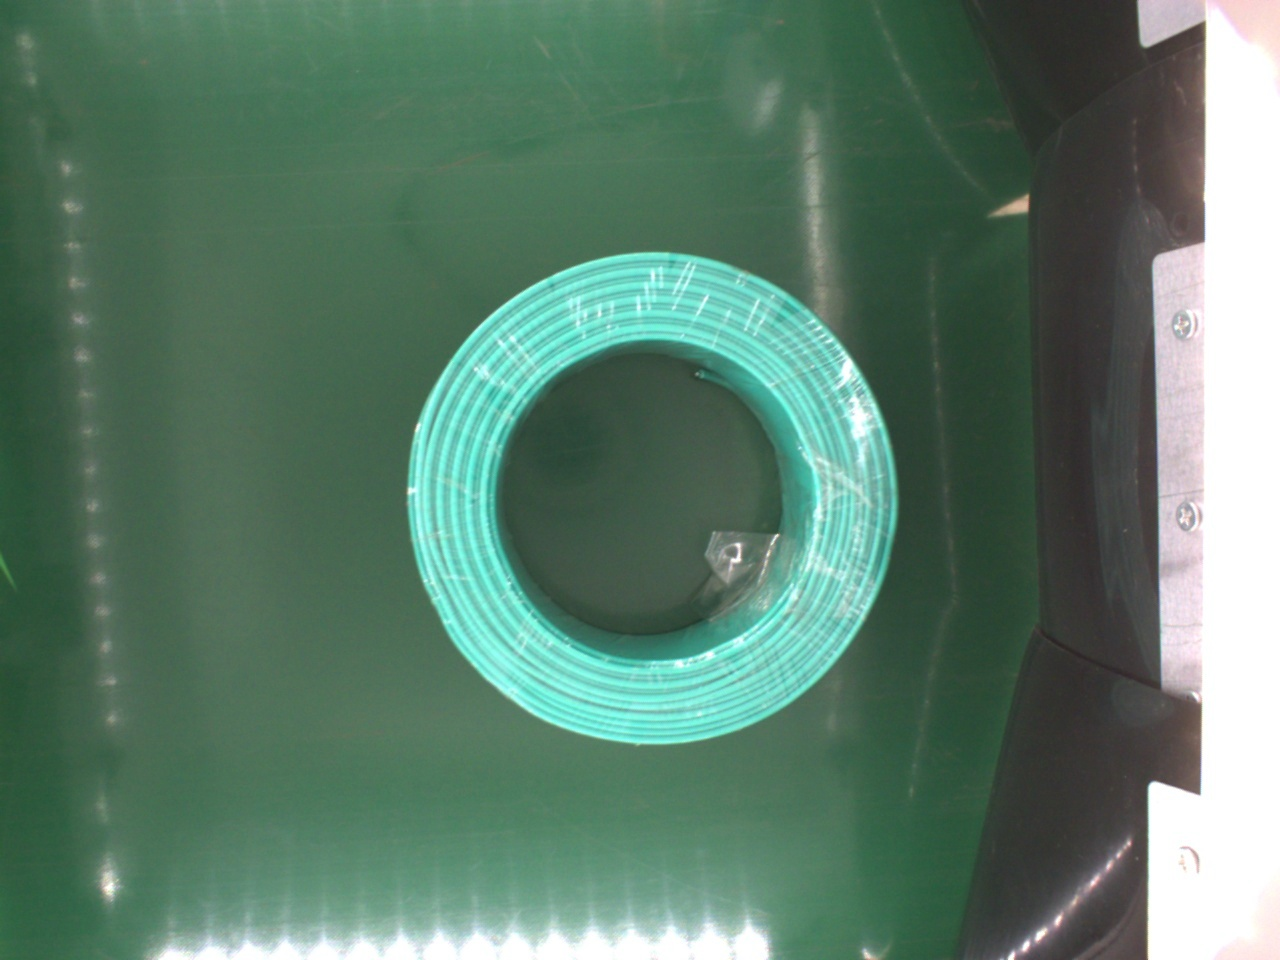green: (395, 251, 902, 742)
